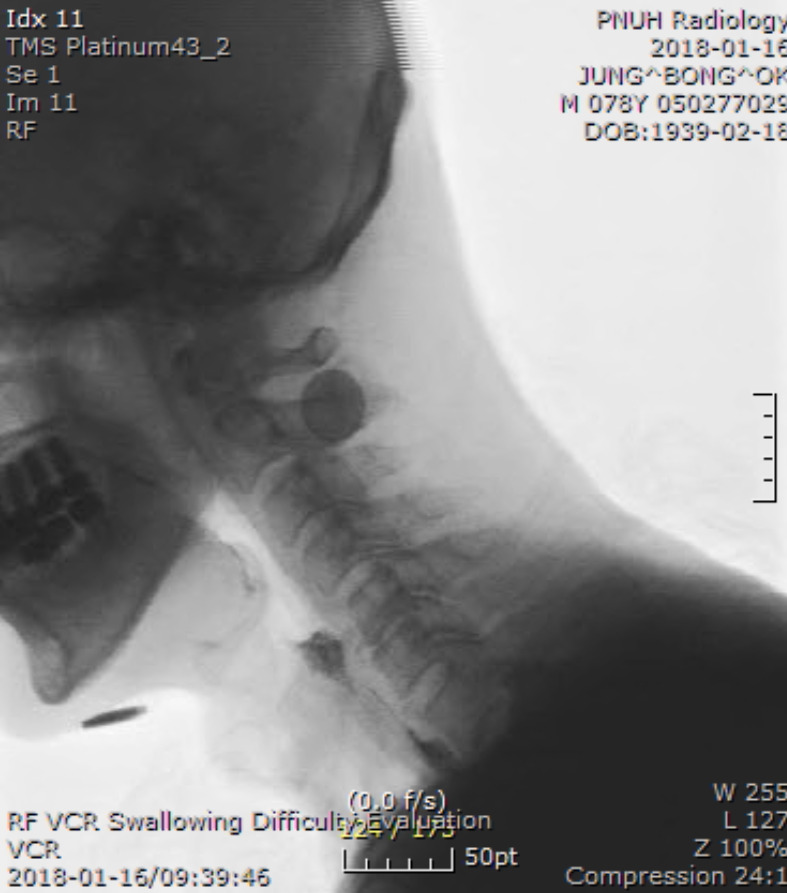dros: (270, 589, 340, 647)
food: (295, 620, 361, 694)
uros: (203, 529, 269, 600)
